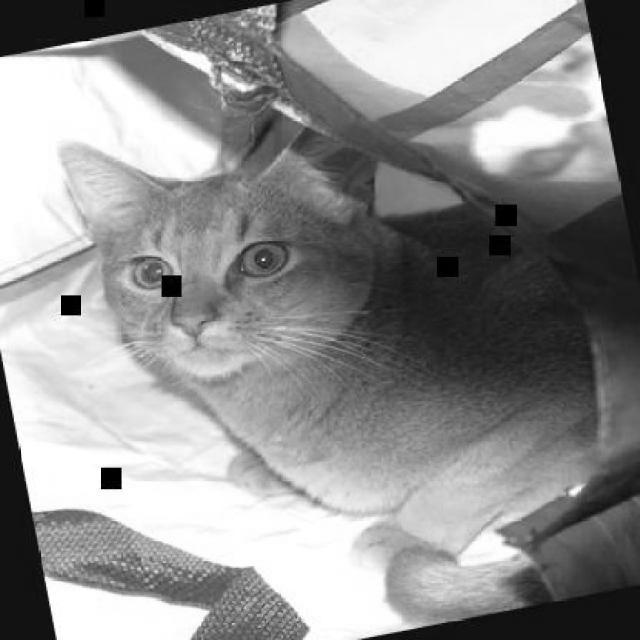Cat: (51, 43, 638, 639)
